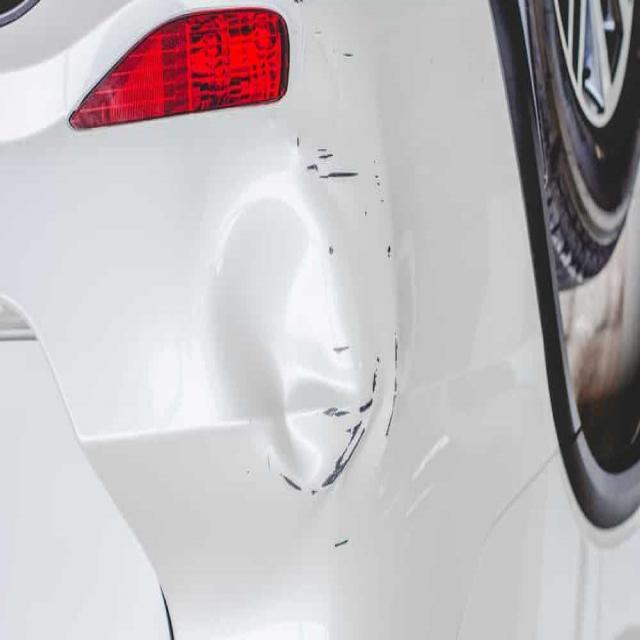dent: (188, 143, 408, 507)
